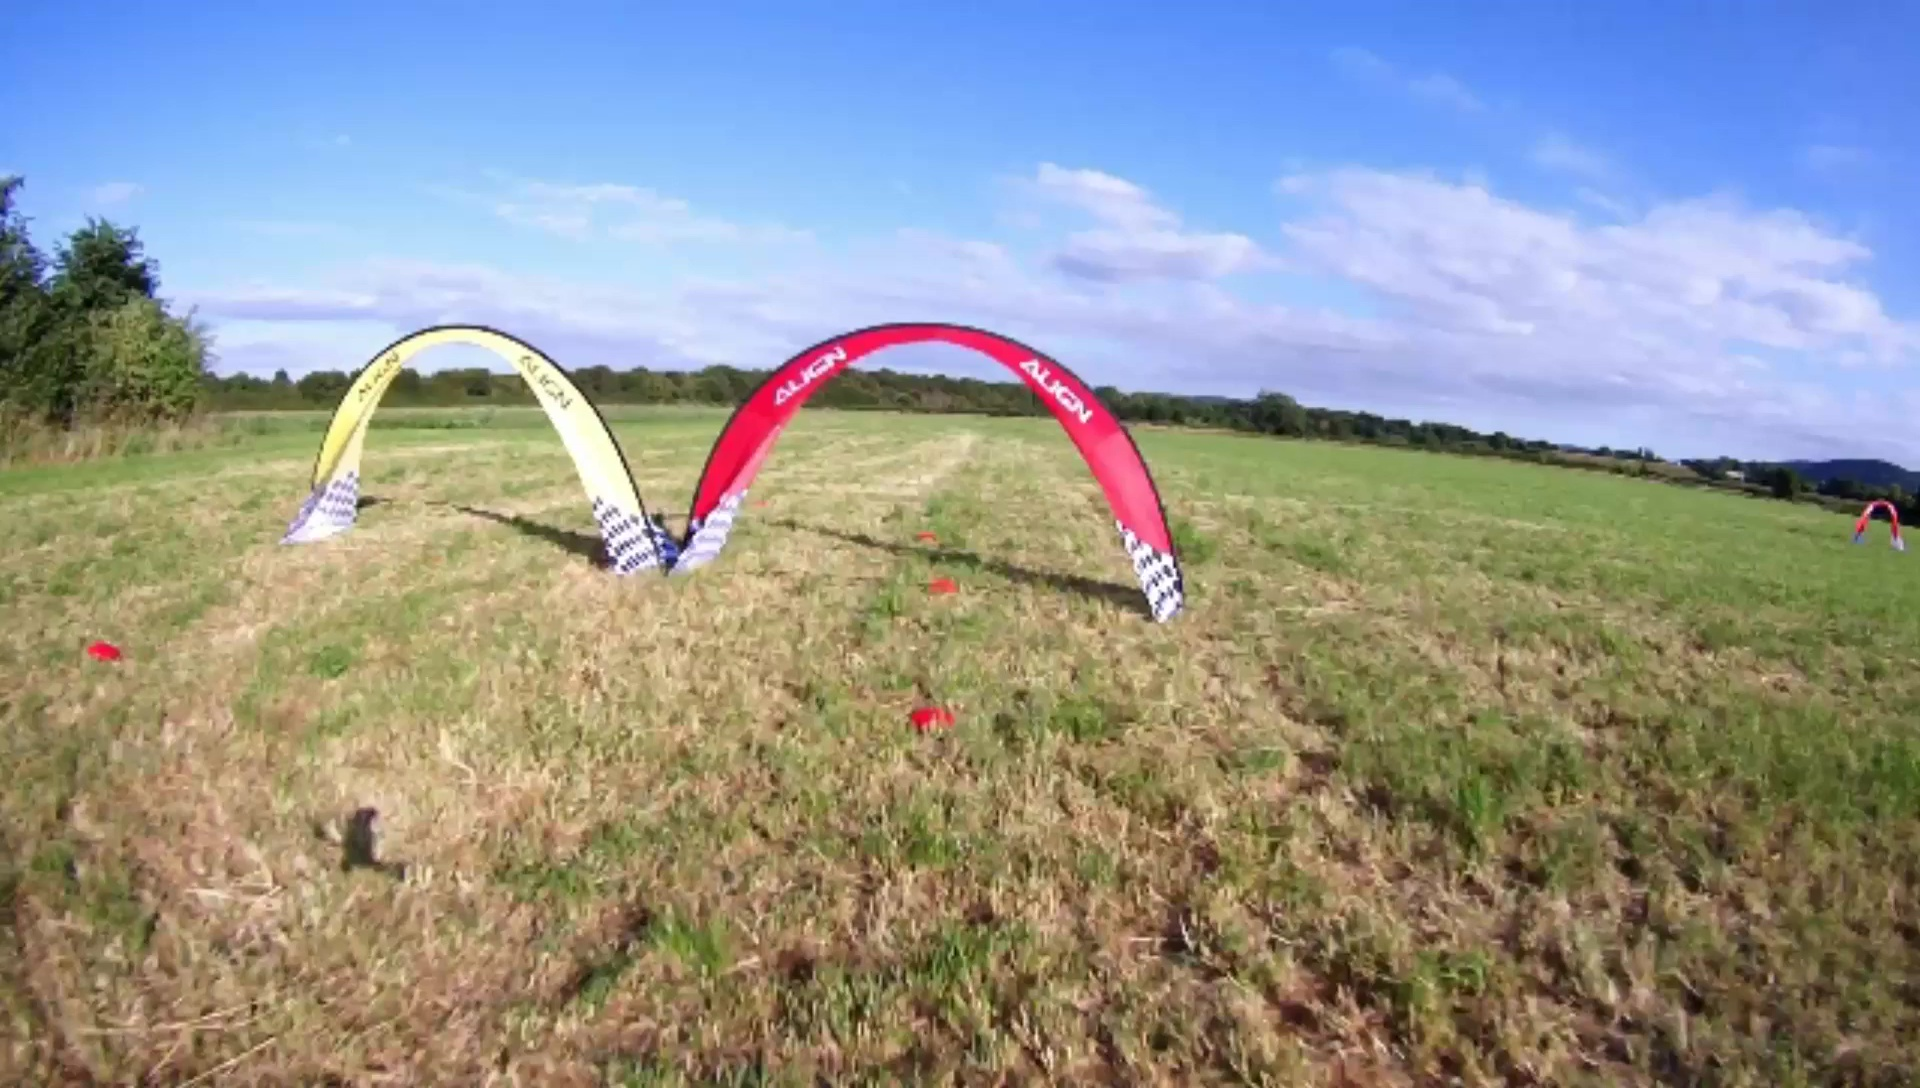gate: (667, 319, 1184, 625), (285, 322, 662, 580), (1847, 497, 1907, 554)
